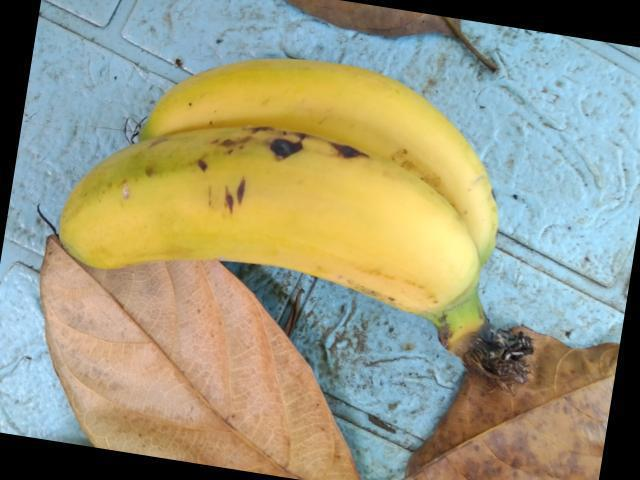freshripe: (131, 40, 428, 121)
ripe: (51, 120, 483, 337)
